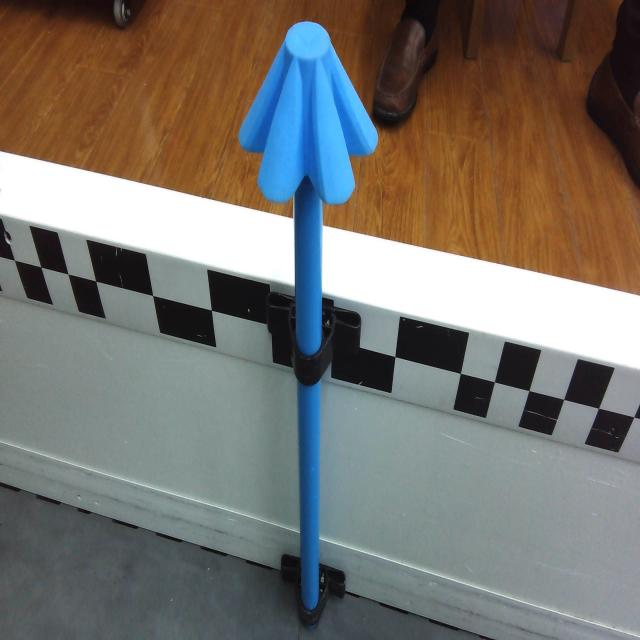zblue-Stake-Head: (238, 22, 378, 203)
